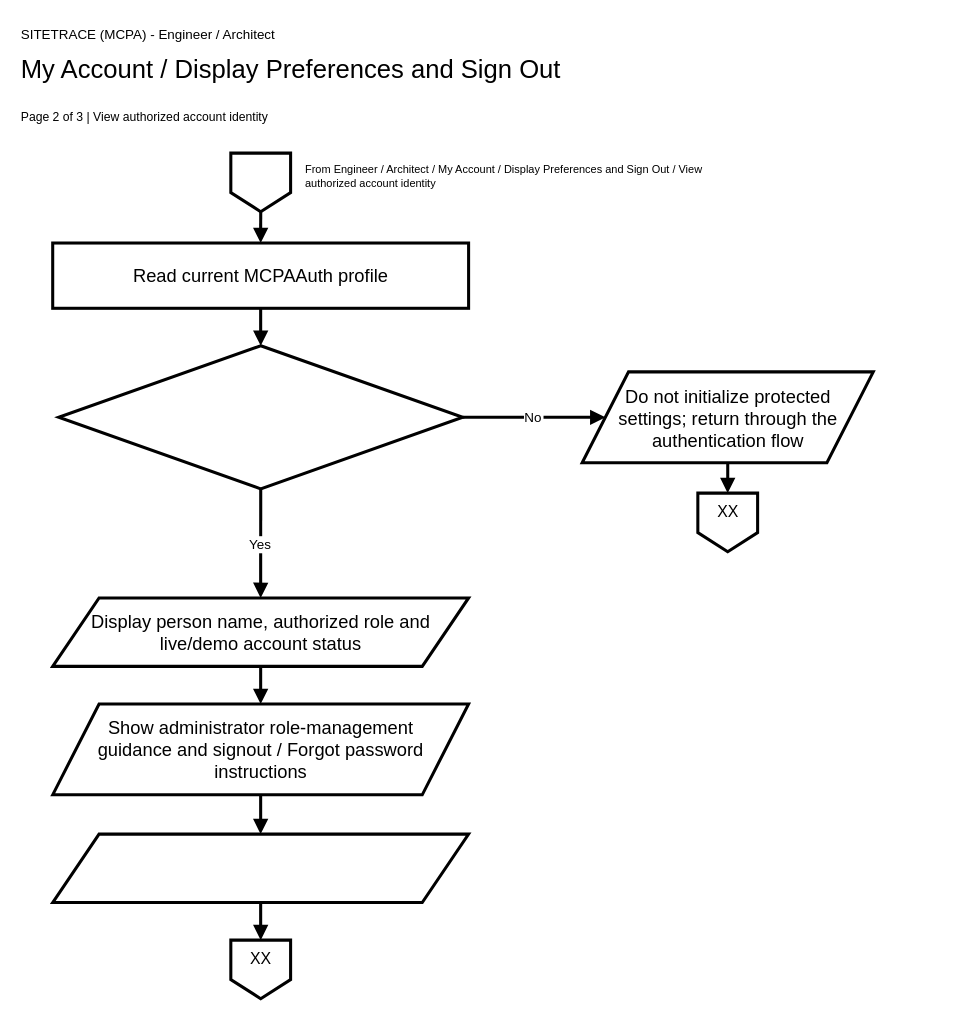
The diagram is 953 pixels wide and 1021 high, and some of its shapes have lost their labels. Each missing label, with the centre of its shape:
"A signed-in profile exists?" belongs at (x=260, y=417).
"LG" belongs at (x=260, y=182).
"The existing authorized identity is displayed without account mutation." belongs at (x=260, y=868).
